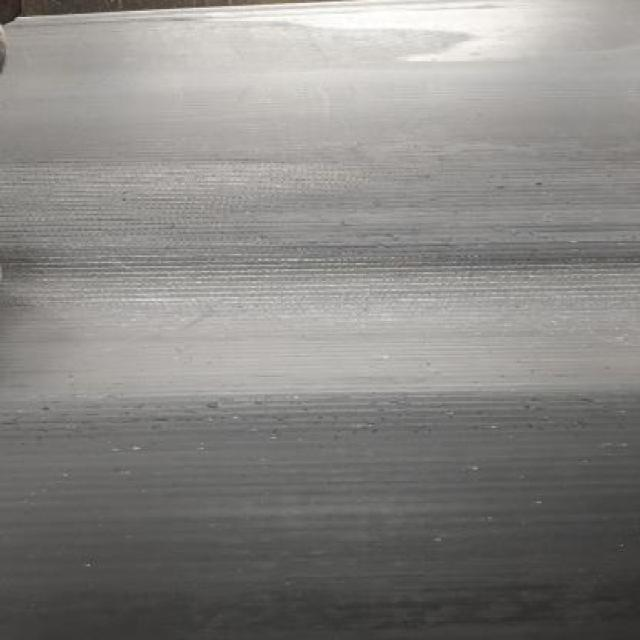Wear: (0, 228, 640, 318)
